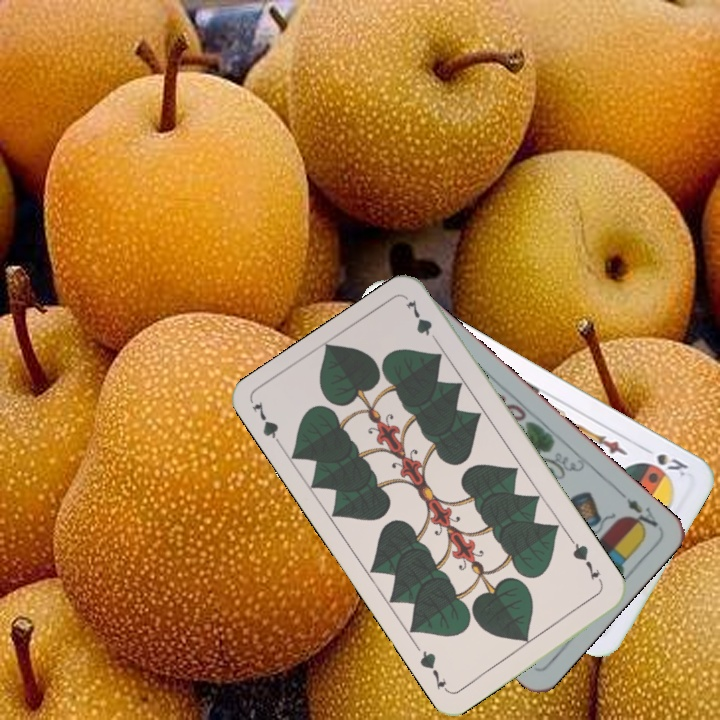EA: (614, 487, 661, 536)
G7: (247, 397, 287, 453), (567, 536, 606, 588)
SK: (637, 442, 691, 480)
